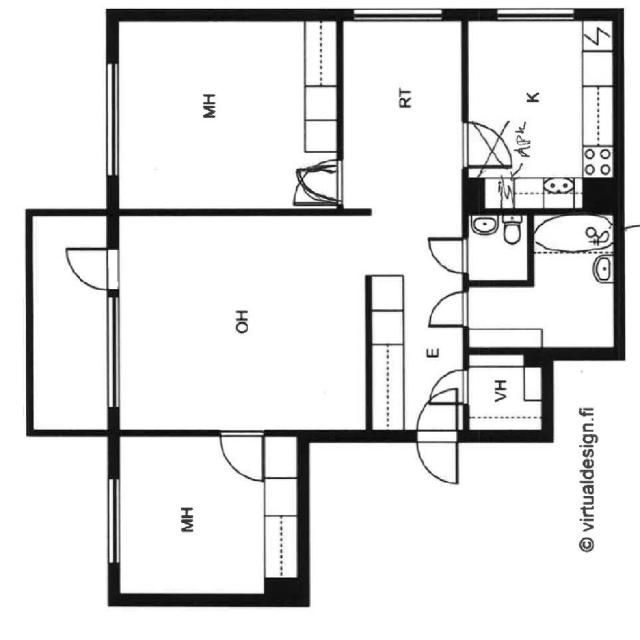door: (408, 397, 465, 489), (215, 428, 267, 483), (61, 245, 118, 292), (421, 231, 477, 276), (425, 286, 475, 331), (426, 366, 477, 407)
window: (99, 59, 126, 184), (102, 291, 125, 417), (347, 1, 447, 28), (491, 1, 577, 28), (102, 474, 124, 568)
zone: (113, 215, 374, 433), (109, 17, 336, 207), (111, 432, 297, 602), (464, 12, 616, 207), (338, 14, 466, 216), (465, 214, 617, 353), (28, 222, 115, 433), (464, 353, 548, 436), (463, 208, 532, 284)
